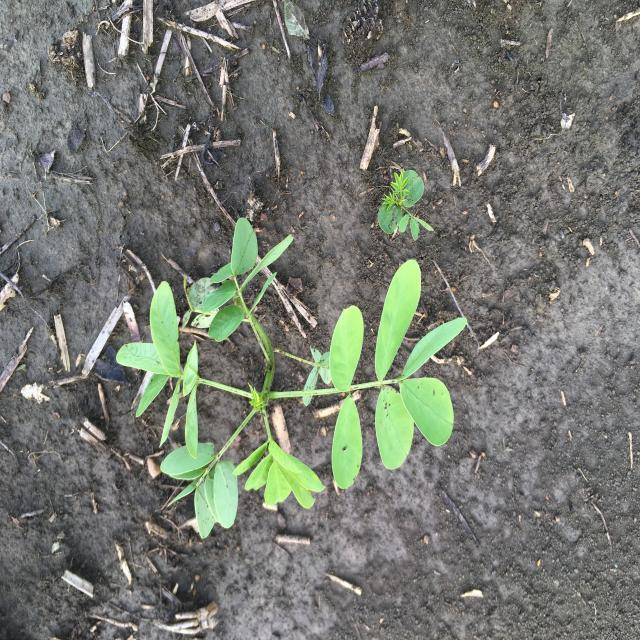Sicklepod: (114, 216, 470, 541), (378, 163, 437, 241)
